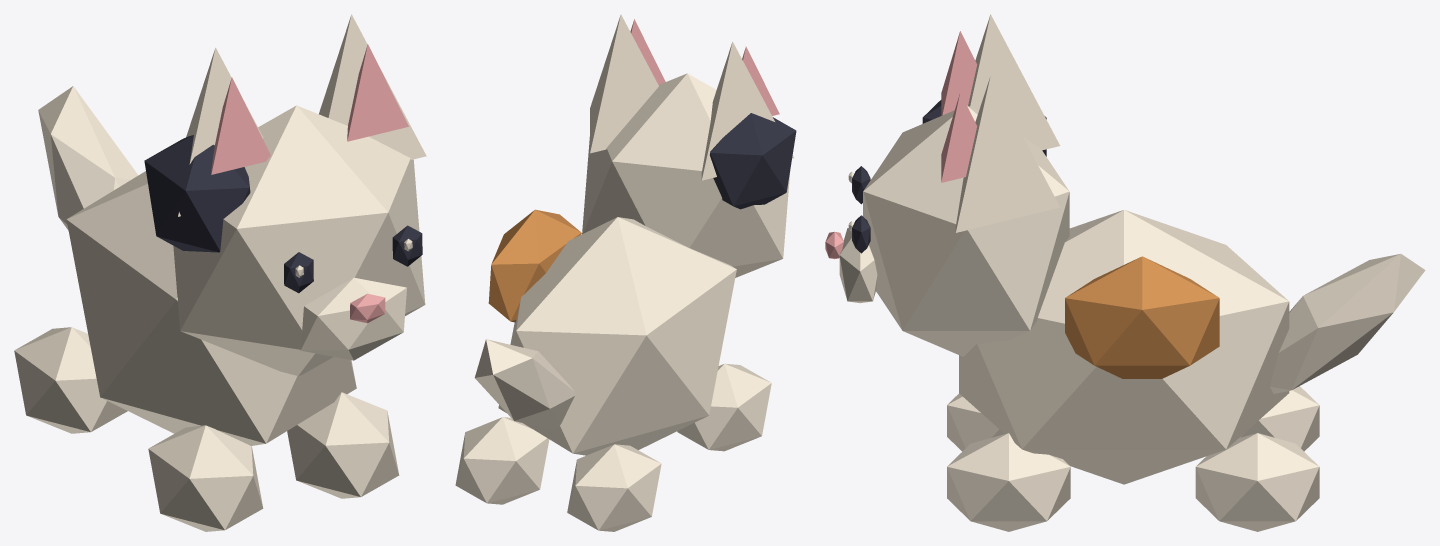
File: pet_cat_calico.glb
3 views of the same model, side by side, from view 1: azimuth 30°, elevation 25°; view 2: azimuth 150°, elevation 25°; view 3: azimuth 270°, elevation 25° (orthographic). The views are drawn at different scales.
Visible parts, largest first — view 1: head, body, paw, paw.001, patch.001, back_paw, tail_bob, muzzle, ear.001, ear_inner.001, ear_inner, ear (+3 smaller); view 2: body, head, back_paw, back_paw.001, patch.001, tail_bob, patch, ear.001, paw, ear, ear_inner, ear_inner.001; view 3: body, head, patch, tail_bob, back_paw.001, paw.001, ear.001, ear, back_paw, ear_inner.001, muzzle, paw (+1 smaller).
Boxes of the visible parts, left/top/right/bottom form: head: left=173, top=105, right=425, bottom=375; body: left=66, top=171, right=356, bottom=445; paw: left=148, top=425, right=263, bottom=531; paw.001: left=287, top=392, right=399, bottom=498; patch.001: left=144, top=135, right=250, bottom=252; back_paw: left=14, top=327, right=127, bottom=433; tail_bob: left=38, top=86, right=138, bottom=230; muzzle: left=300, top=277, right=406, bottom=360; ear.001: left=319, top=14, right=426, bottom=159; ear_inner.001: left=347, top=44, right=408, bottom=141; ear_inner: left=211, top=77, right=270, bottom=174; ear: left=178, top=47, right=263, bottom=216; body: left=498, top=217, right=736, bottom=455; head: left=582, top=73, right=790, bottom=277; back_paw: left=567, top=444, right=661, bottom=531; back_paw.001: left=455, top=417, right=549, bottom=504; patch.001: left=710, top=113, right=796, bottom=209; tail_bob: left=474, top=339, right=574, bottom=430; patch: left=488, top=209, right=581, bottom=322; ear.001: left=590, top=14, right=658, bottom=153; paw: left=677, top=363, right=771, bottom=451; ear: left=701, top=41, right=793, bottom=180; ear_inner: left=742, top=46, right=779, bottom=115; ear_inner.001: left=630, top=19, right=665, bottom=84; body: left=959, top=210, right=1289, bottom=484; head: left=863, top=105, right=1069, bottom=356; patch: left=1065, top=256, right=1219, bottom=378; tail_bob: left=1270, top=254, right=1425, bottom=393; back_paw.001: left=1195, top=433, right=1319, bottom=531; paw.001: left=947, top=433, right=1070, bottom=531; ear.001: left=955, top=76, right=1060, bottom=232; ear: left=968, top=14, right=1060, bottom=150; back_paw: left=1239, top=386, right=1319, bottom=451; ear_inner.001: left=941, top=92, right=977, bottom=182; muzzle: left=839, top=228, right=877, bottom=303; paw: left=947, top=393, right=1004, bottom=451.
Size of the model in its own units: 0.4576 by 0.83 by 0.9891.
